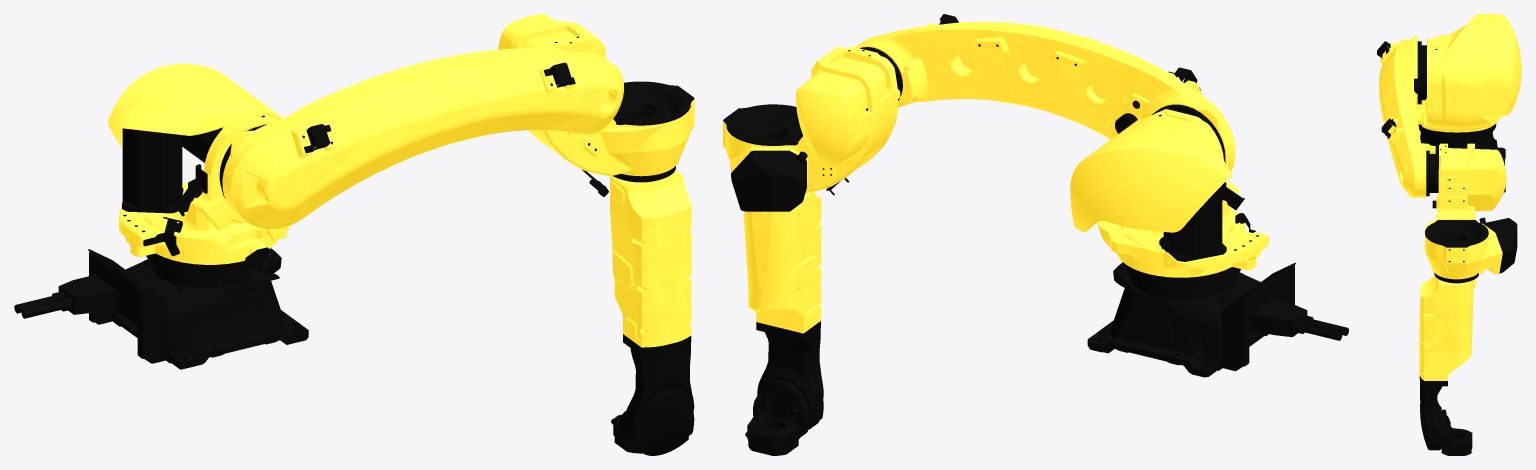
File: FANUC_ARC_Mate_120iD.glb
3 views of the same model, side by side, from view 1: azimuth 30°, elevation 25°; view 2: azimuth 150°, elevation 25°; view 3: azimuth 270°, elevation 25° (orthographic). The views are drawn at different scales.
Parts seen in each view (by area): view 1: M20iD25_L02, M20iD25_L01, M20iD25_L04, M20iD25_L00, M20iD25_L03; view 2: M20iD25_L01, M20iD25_L02, M20iD25_L03, M20iD25_L00, M20iD25_L04, M20iD25_L05; view 3: M20iD25_L01, M20iD25_L03, M20iD25_L02, M20iD25_L04, M20iD25_L05, M20iD25_L00.
Part boxes in pixels (box(x1,y1,x2,y2)): M20iD25_L02: box(219, 48, 623, 229); M20iD25_L01: box(107, 63, 288, 288); M20iD25_L04: box(610, 170, 694, 455); M20iD25_L00: box(14, 200, 308, 369); M20iD25_L03: box(498, 14, 694, 196); M20iD25_L01: box(1070, 109, 1268, 299); M20iD25_L02: box(856, 14, 1235, 171); M20iD25_L03: box(723, 46, 900, 211); M20iD25_L00: box(1087, 262, 1348, 377); M20iD25_L04: box(744, 191, 823, 429); M20iD25_L05: box(745, 380, 809, 455); M20iD25_L01: box(1416, 14, 1521, 147); M20iD25_L03: box(1424, 143, 1517, 283); M20iD25_L02: box(1377, 36, 1438, 197); M20iD25_L04: box(1419, 275, 1475, 450); M20iD25_L05: box(1441, 409, 1472, 455); M20iD25_L00: box(1420, 134, 1505, 192).
Bounding box in the file's own units: 1.71 × 1.17 × 0.5111.
Materials: 3 (1 with a texture image).
